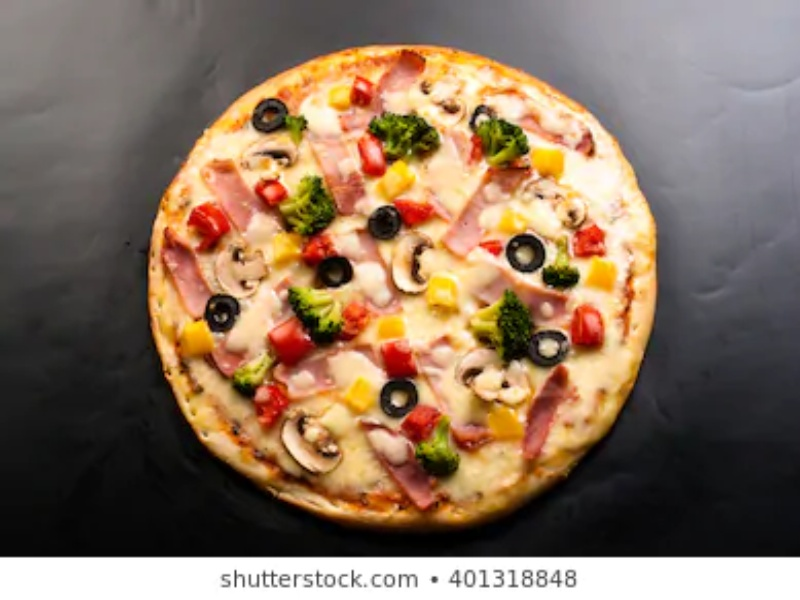olive noir: (520, 325, 576, 367), (503, 226, 549, 275), (375, 376, 419, 415), (204, 290, 243, 332), (317, 253, 358, 289), (368, 202, 404, 242), (245, 100, 288, 133)
